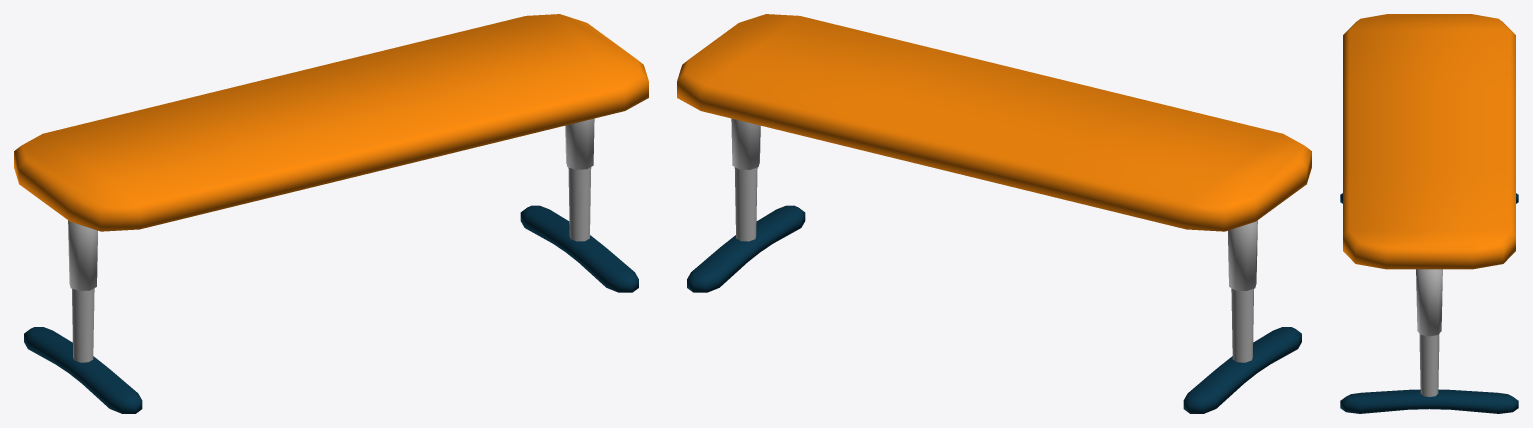
The model's file is Big_Table.FBX.
3 views of the same model, side by side, from view 1: azimuth 30°, elevation 25°; view 2: azimuth 150°, elevation 25°; view 3: azimuth 270°, elevation 25° (orthographic). The views are drawn at different scales.
Parts seen in each view (by area): view 1: Big_Table; view 2: Big_Table; view 3: Big_Table.
Part boxes in pixels (<box>): Big_Table: <box>14,14,648,413</box>; Big_Table: <box>677,14,1311,413</box>; Big_Table: <box>1340,14,1518,413</box>.
Size of the model in its own units: 2.62 by 0.8971 by 0.8312.
